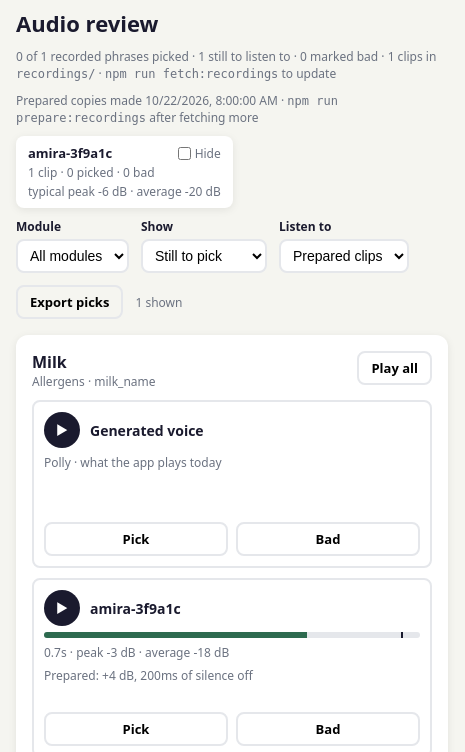
ReviewPage › exports the picks, saying where they went
The image size is (465, 752).
Expected: the text "Milk" is shown, [32,351,67,373]
Click the button with aria-label "Pick amira-3f9a1c": (136, 729) [44,712,228,746]
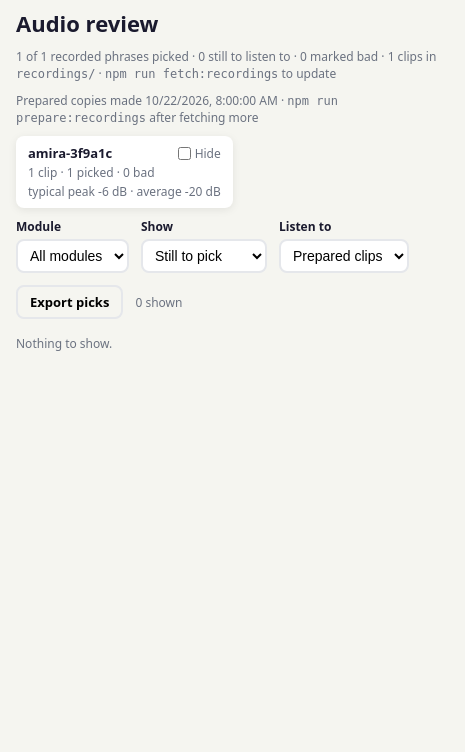
Expected: the text "1 of 1 recorded phrases picked" is shown, [16,48,448,82]
Click the button "Export picks": (70, 302) [16,285,123,319]
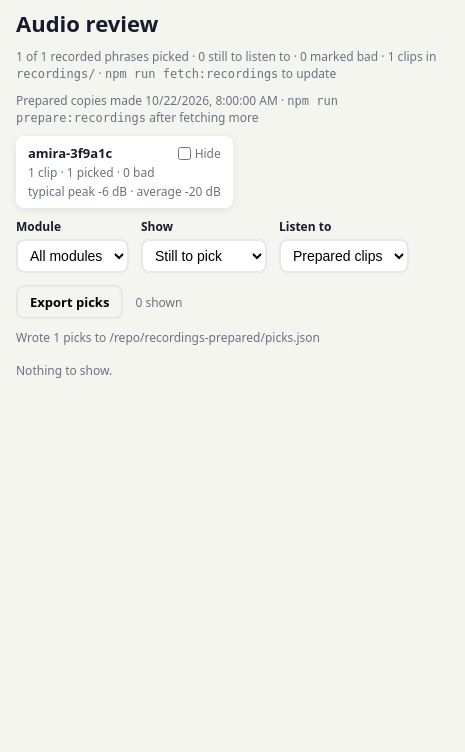
Expected: the text "Wrote 1 picks to /repo/recordings-prepared/picks.json" is shown, [16,329,320,346]
